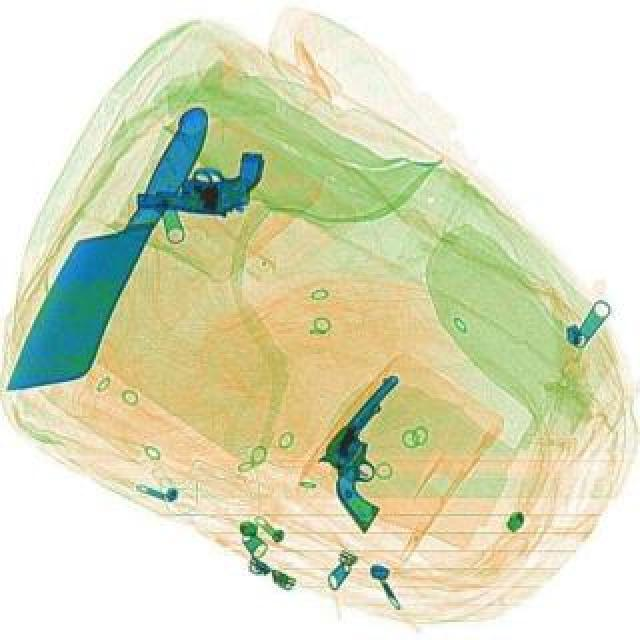gun: (290, 366, 462, 530), (136, 144, 264, 216)
knife: (0, 84, 220, 410)
